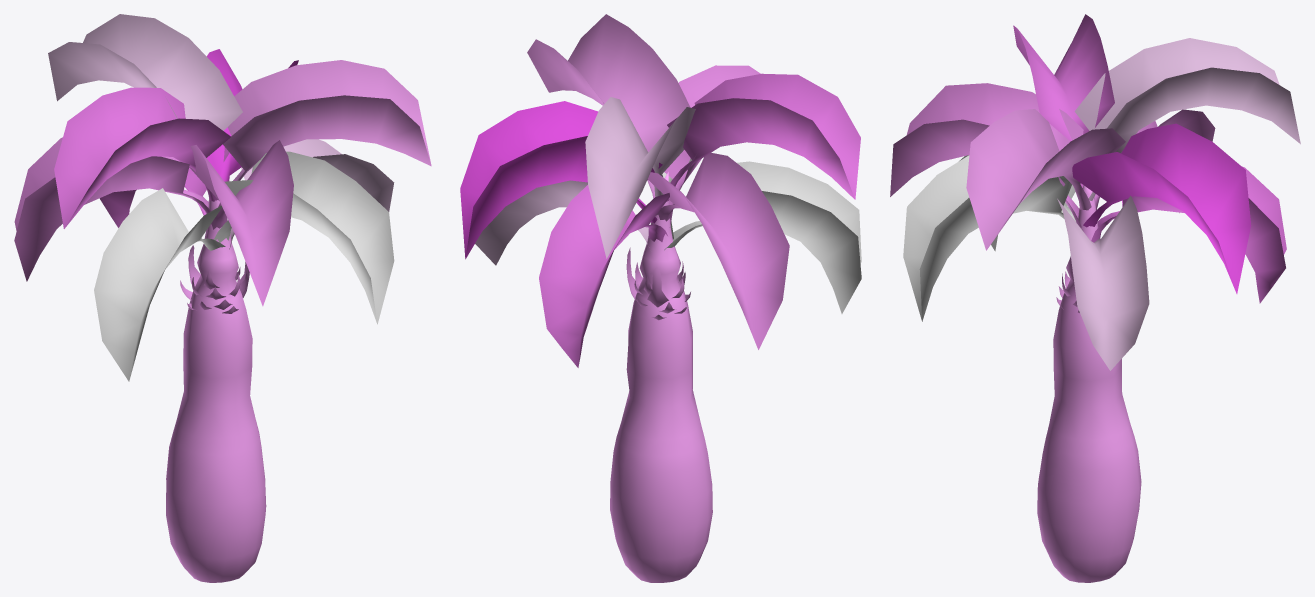
File: G_BottlePalm_001_S1.fbx
The picture shows the model from 3 angles, left to right: view 1: azimuth 30°, elevation 25°; view 2: azimuth 150°, elevation 25°; view 3: azimuth 270°, elevation 25°; orthographic projection.
Parts seen in each view (by area): view 1: G_BottlePalm_001_S1_P01_LOD0; view 2: G_BottlePalm_001_S1_P01_LOD0; view 3: G_BottlePalm_001_S1_P01_LOD0.
Boxes of the visible parts, <box> form: G_BottlePalm_001_S1_P01_LOD0: <box>14,14,431,582</box>; G_BottlePalm_001_S1_P01_LOD0: <box>460,14,861,582</box>; G_BottlePalm_001_S1_P01_LOD0: <box>890,14,1300,582</box>.
Size of what is drawn, in the model's own units: 299 by 417 by 307.
